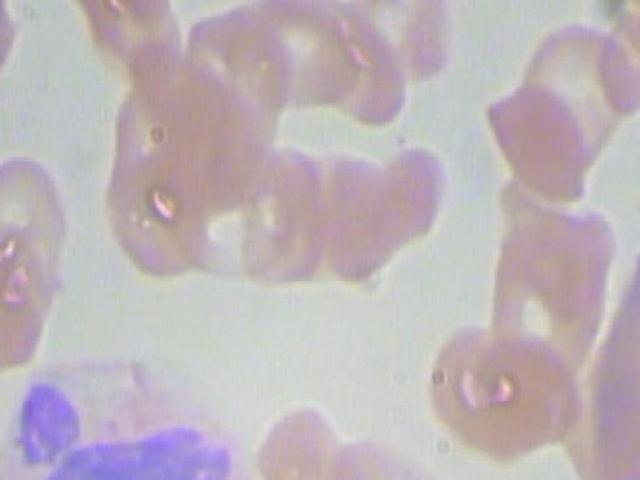RBC: (486, 194, 620, 365), (262, 0, 414, 133), (99, 119, 220, 281), (425, 308, 545, 464), (513, 12, 633, 164), (482, 75, 597, 201), (0, 148, 77, 334), (473, 326, 587, 451), (311, 145, 399, 291), (333, 0, 469, 87), (372, 135, 454, 264), (245, 399, 365, 480), (333, 428, 465, 480), (591, 0, 640, 119), (59, 0, 200, 21), (0, 0, 15, 127)
WBC: (0, 357, 258, 480)
